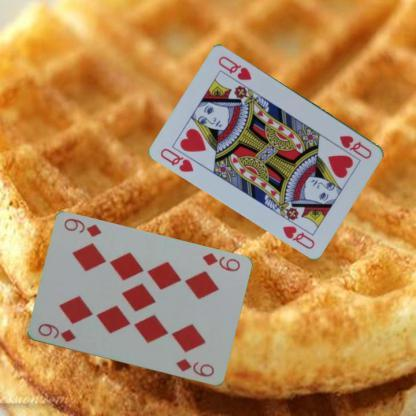9d: (35, 321, 77, 344), (199, 250, 241, 273)
Qh: (158, 144, 196, 173), (336, 132, 374, 160)
